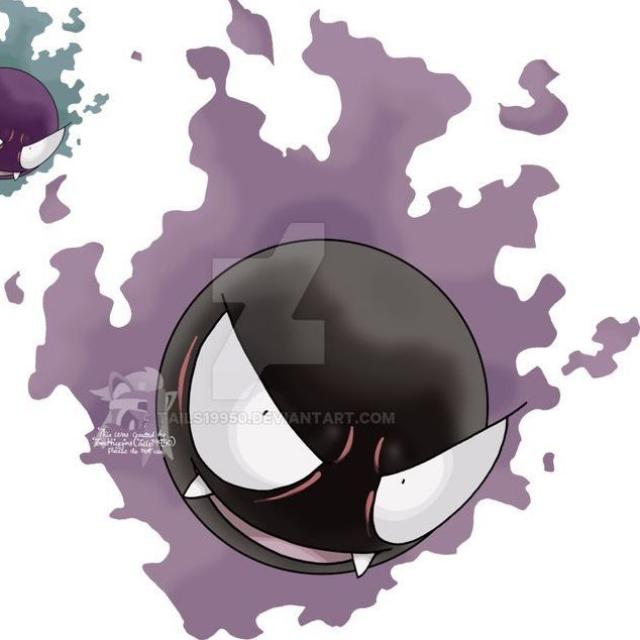Gastly: (162, 236, 496, 582), (2, 4, 69, 190)
